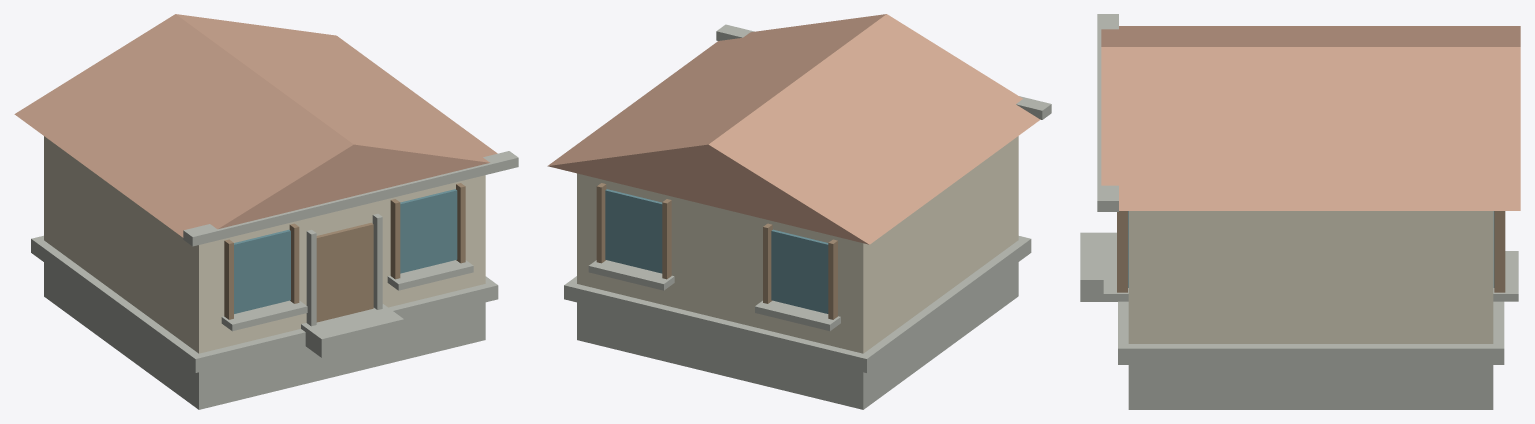
Rendered from house-0.glb.
The picture shows the model from 3 angles, left to right: view 1: azimuth 30°, elevation 25°; view 2: azimuth 150°, elevation 25°; view 3: azimuth 270°, elevation 25°; orthographic projection. The views are drawn at different scales.
Size of the model in its own units: 3.64 by 2.55 by 3.62.
